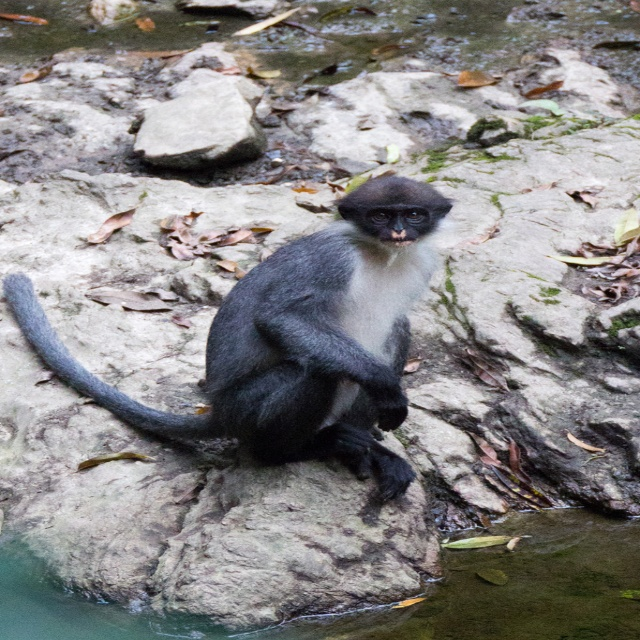Monkey: (20, 182, 457, 501)
